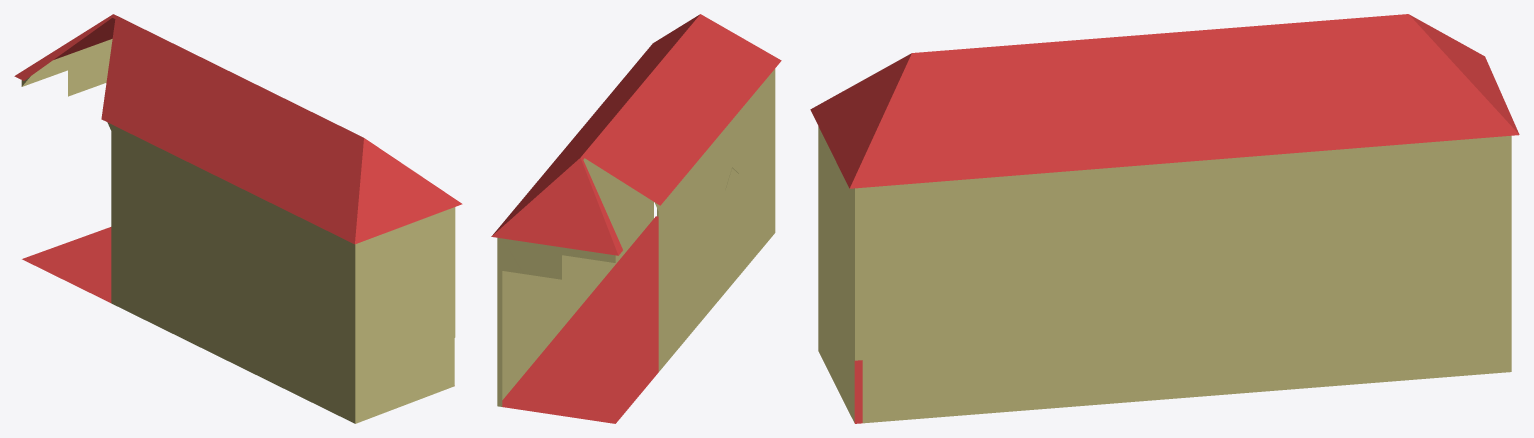
3 views of the same model, side by side, from view 1: azimuth 30°, elevation 25°; view 2: azimuth 150°, elevation 25°; view 3: azimuth 270°, elevation 25° (orthographic). The views are drawn at different scales.
Size of the model in its own units: 22.57 by 51.41 by 26.1.
